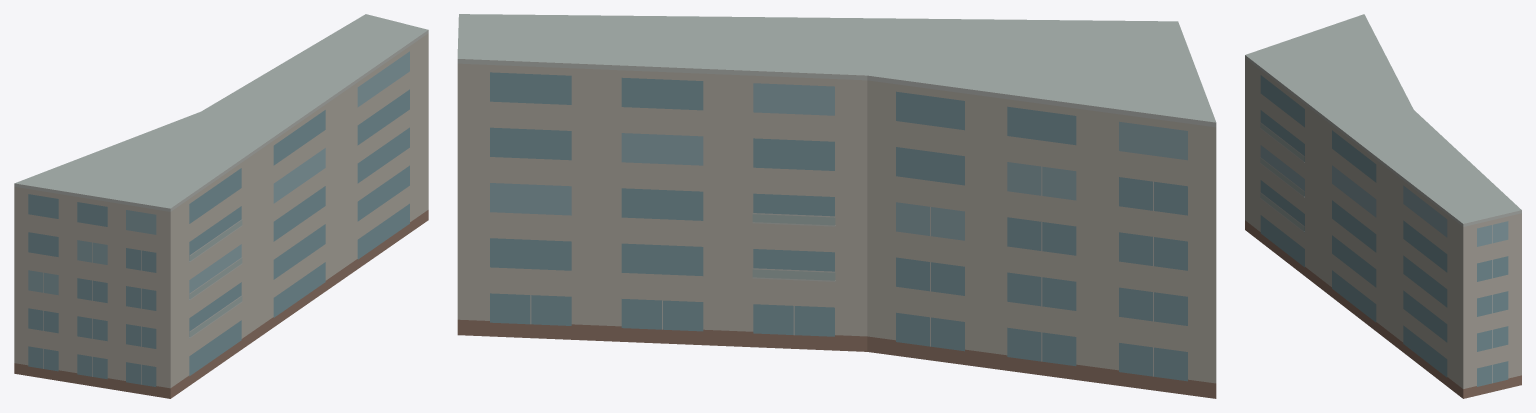
File: survey-upis-32512656.glb
3 views of the same model, side by side, from view 1: azimuth 30°, elevation 25°; view 2: azimuth 150°, elevation 25°; view 3: azimuth 270°, elevation 25° (orthographic). The views are drawn at different scales.
Parts seen in each view (by area): view 1: survey-upis-32512656.tmp; view 2: survey-upis-32512656.tmp; view 3: survey-upis-32512656.tmp.
Boxes of the visible parts, x1=… form: survey-upis-32512656.tmp: x1=14, y1=14, x2=428, y2=398; survey-upis-32512656.tmp: x1=457, y1=14, x2=1216, y2=398; survey-upis-32512656.tmp: x1=1245, y1=14, x2=1521, y2=398.
Size of the model in its own units: 36.17 by 14.05 by 20.16.
